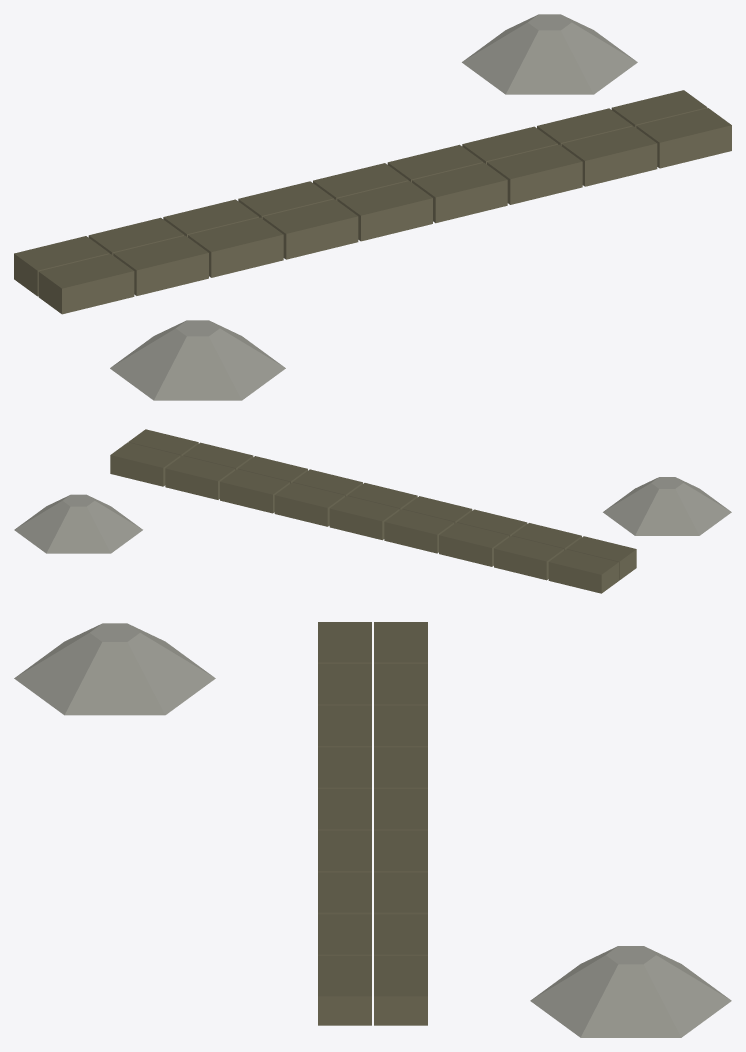
Rendered from SM_ObraReconstruccion_v2_8m_LOD1.fbx.
3 views of the same model, one above another, from view 1: azimuth 30°, elevation 25°; view 2: azimuth 150°, elevation 25°; view 3: azimuth 270°, elevation 25° (orthographic). The views are drawn at different scales.
Parts seen in each view (by area): view 1: SM_obra_curso_v44_LOD1; view 2: SM_obra_curso_v44_LOD1; view 3: SM_obra_curso_v44_LOD1.
Boxes of the visible parts, bbox=[...] form: SM_obra_curso_v44_LOD1: bbox=[14, 14, 731, 400]; SM_obra_curso_v44_LOD1: bbox=[14, 429, 731, 593]; SM_obra_curso_v44_LOD1: bbox=[14, 622, 731, 1037].
Bounding box in the file's own units: 8.36 × 0.45 × 6.4.
